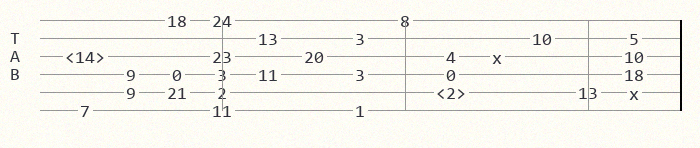0: (172, 67, 186, 82), (446, 67, 460, 82)
1: (355, 103, 369, 118)
10: (532, 31, 556, 46), (624, 49, 648, 64)
11: (212, 103, 236, 118), (258, 67, 282, 82)
13: (258, 31, 282, 46), (578, 85, 602, 100)
18: (167, 13, 191, 28), (624, 67, 648, 82)
2: (217, 85, 231, 100)
20: (304, 49, 328, 64)
21: (167, 85, 191, 100)
23: (212, 49, 236, 64)
24: (212, 13, 236, 28)
3: (217, 67, 231, 82), (355, 67, 369, 82), (355, 31, 369, 46)
4: (446, 49, 460, 64)
5: (629, 31, 643, 46)
7: (80, 103, 94, 118)
8: (400, 13, 414, 28)
9: (126, 85, 140, 100), (126, 67, 140, 82)
harmonic: (65, 49, 109, 64), (436, 85, 470, 100)
x: (492, 50, 506, 63), (629, 86, 643, 99)
